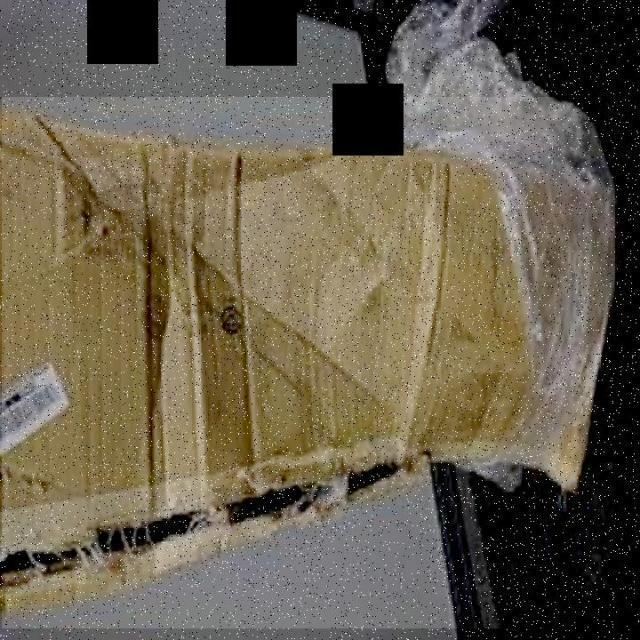box: (2, 96, 616, 628)
